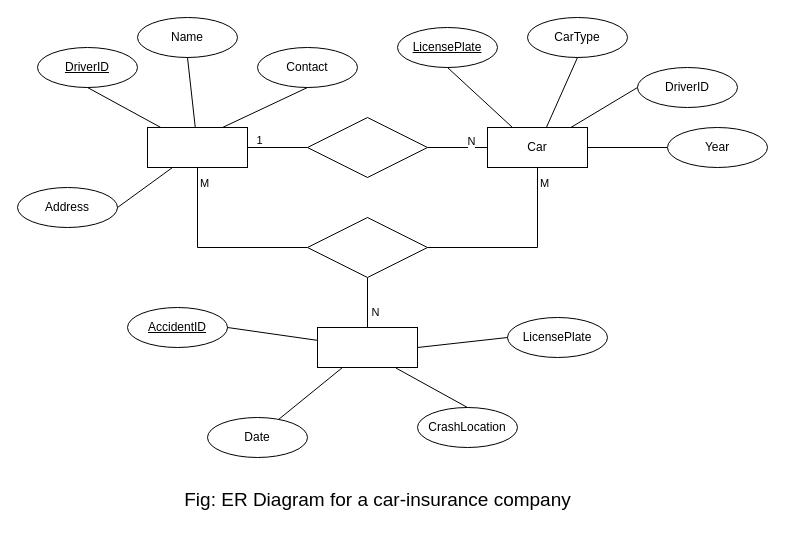
Image size: 785x538. Some labels were removed from this diagram. The shapes that lost their labels are listed below. From the top down, each one's centre as x and y in pixels, then its label:
At (197,147): "Person".
At (367,147): "Owns".
At (367,247): "Engages".
At (367,347): "Accident".
